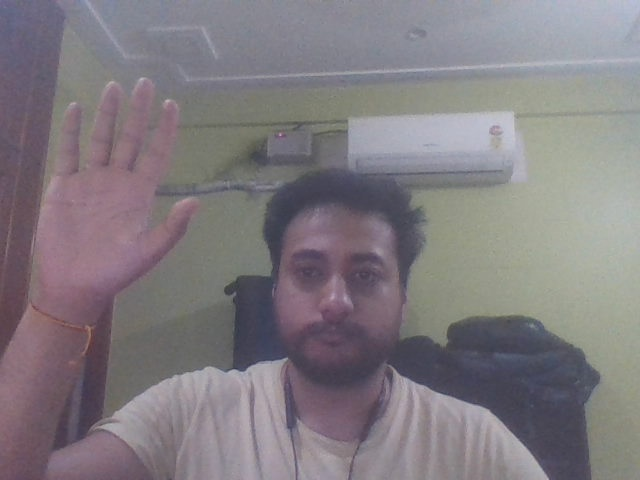Hello: (18, 61, 213, 340)
